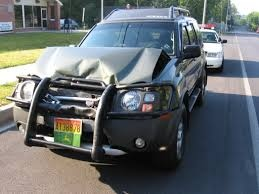Dent: (20, 51, 167, 152)
